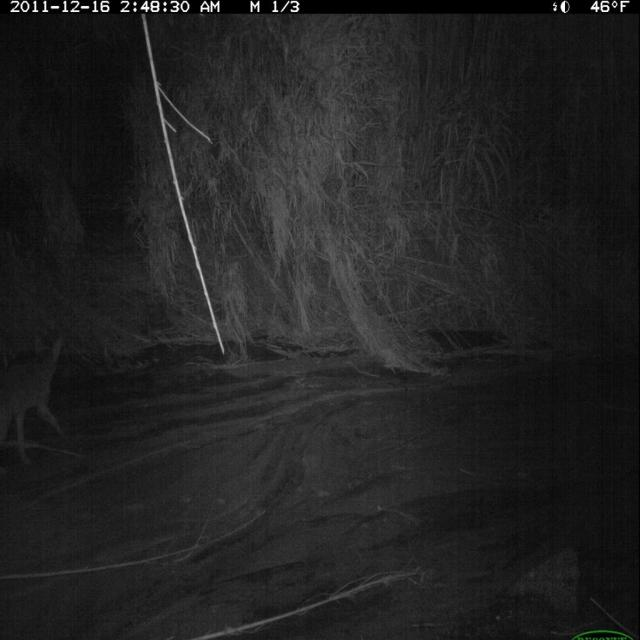coyote: (1, 315, 81, 482)
